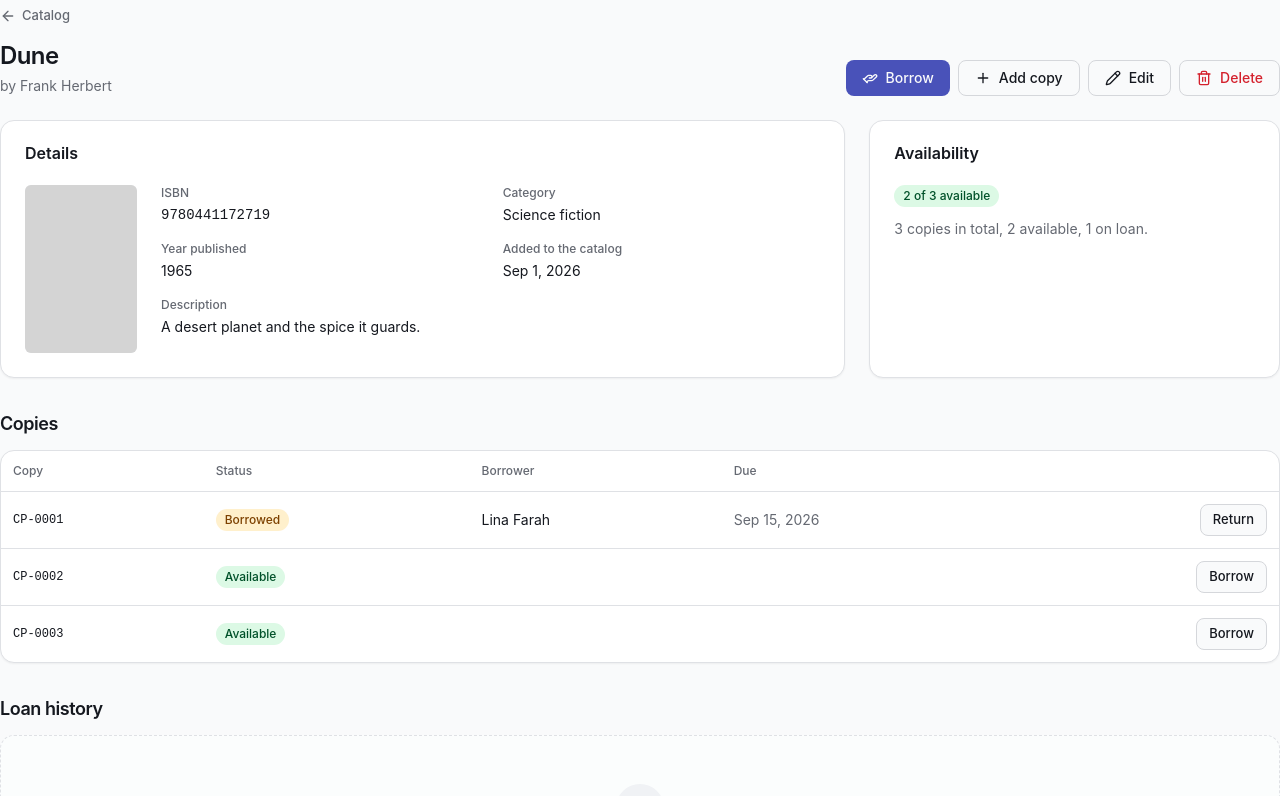
Scenario: BookDetailPage › opens Borrow with the first available copy selected
The image size is (1280, 796).
Click the button "Borrow" in the row of "by Frank Herbert" at (898, 78), box [846,60,950,96]
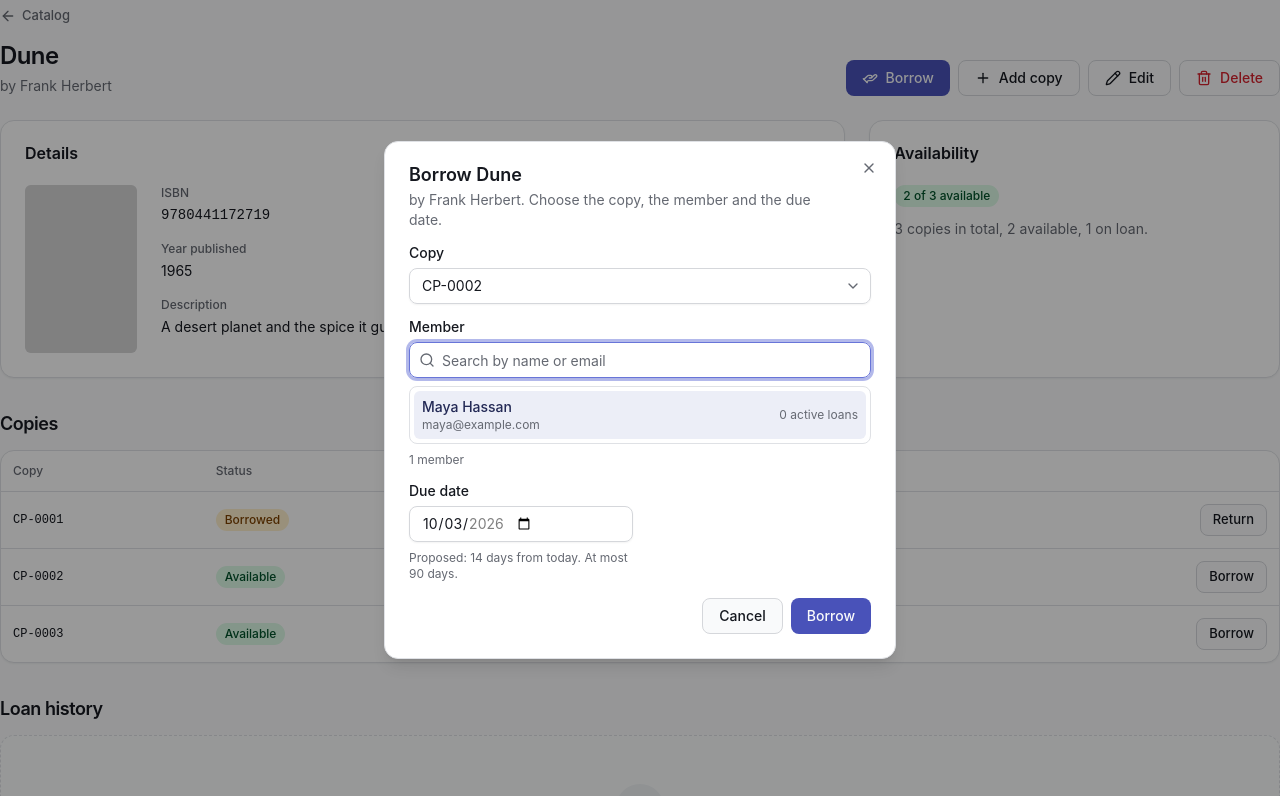
Check: the dropdown labelled "Copy" shows "CP-0002", box [409,268,871,304]
